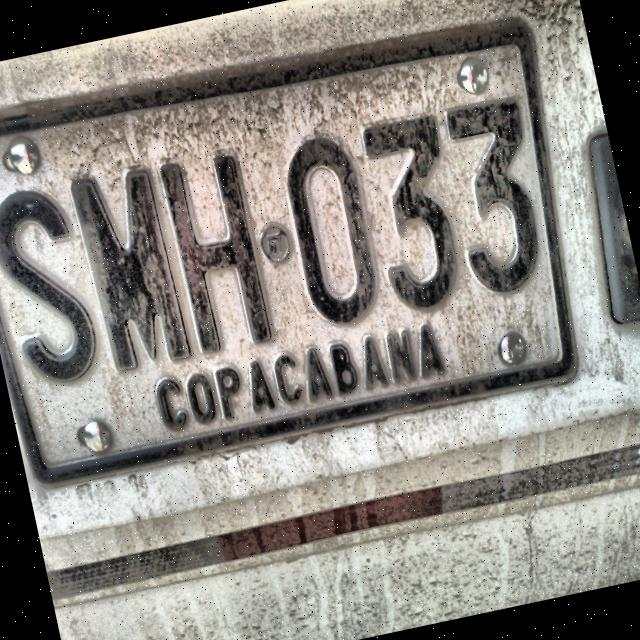0: (271, 124, 388, 336)
3: (350, 108, 472, 318), (438, 91, 546, 301)
H: (155, 144, 279, 358)
M: (68, 159, 195, 378)
S: (0, 177, 107, 393), (104, 366, 108, 374)
